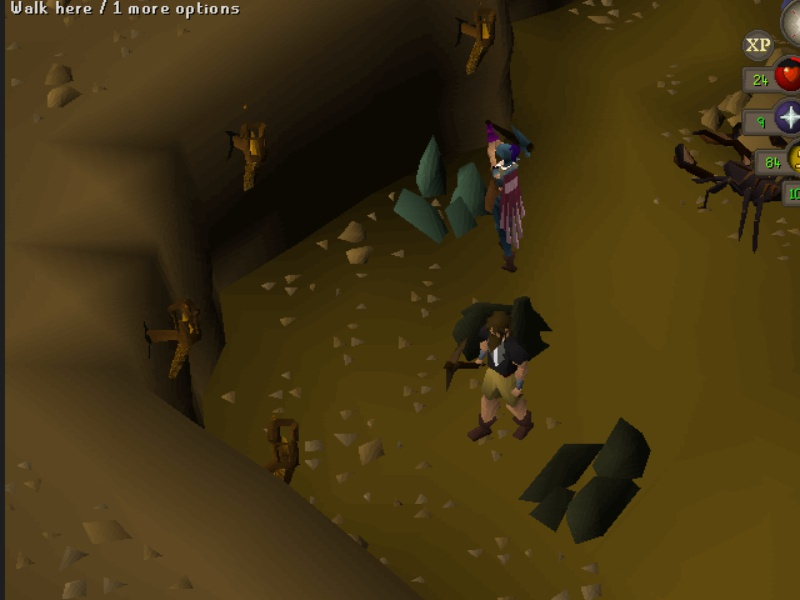adamant: (390, 131, 497, 249)
coal: (513, 411, 657, 547), (449, 290, 560, 372)
